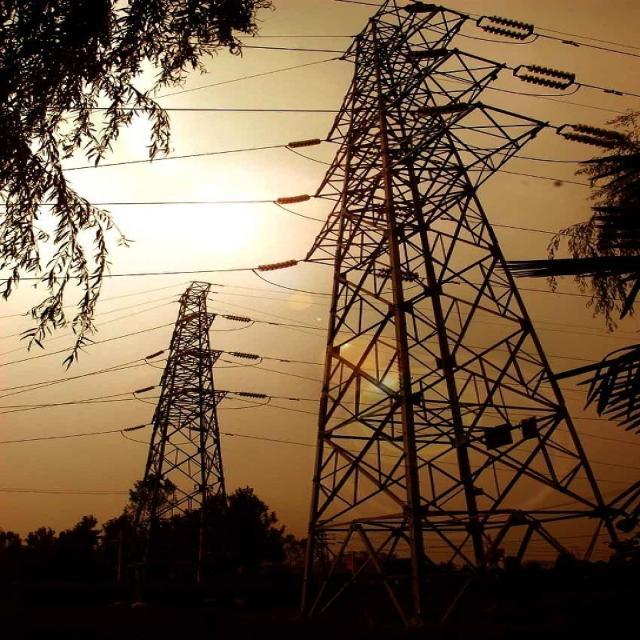non-critical vegetation: (266, 10, 630, 581), (119, 278, 244, 582)
